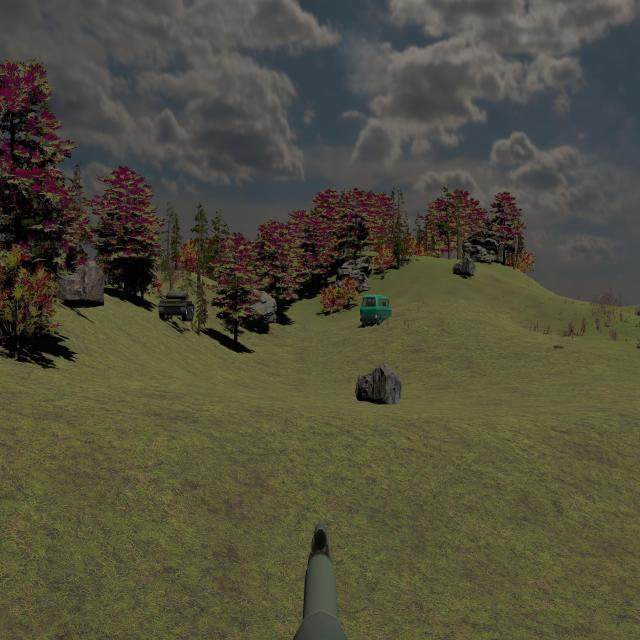Tank: (159, 287, 195, 322)
car: (360, 294, 392, 327)
